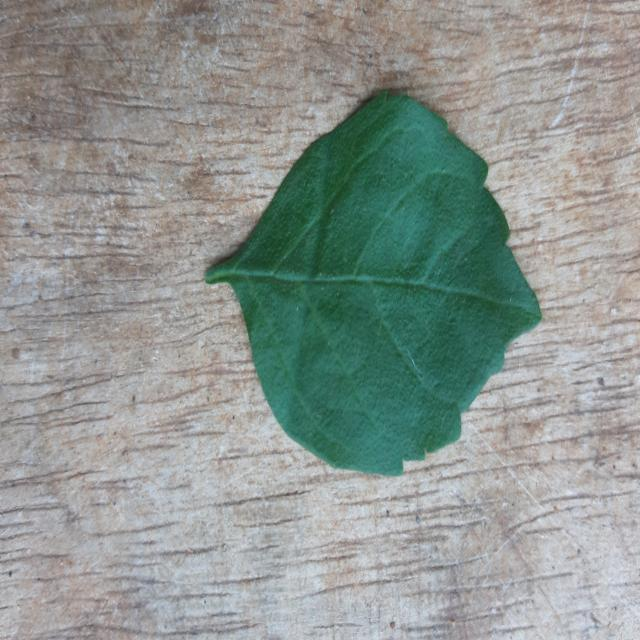tecoma: (205, 93, 541, 476)
